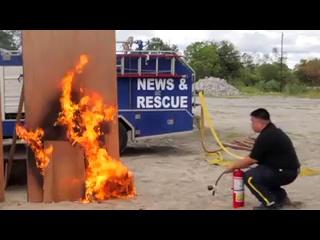Fire: (3, 50, 140, 204)
